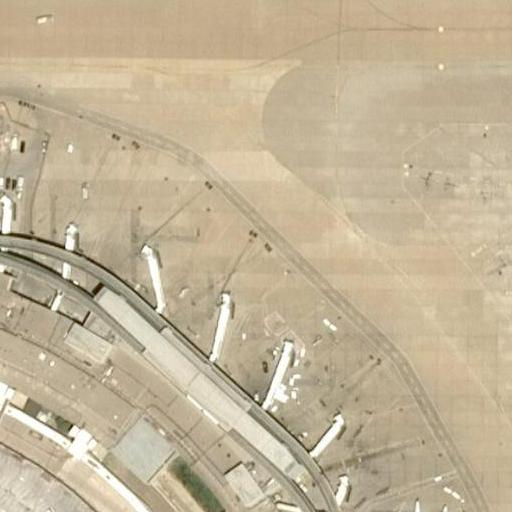Aircraft: (393, 499, 452, 512)
